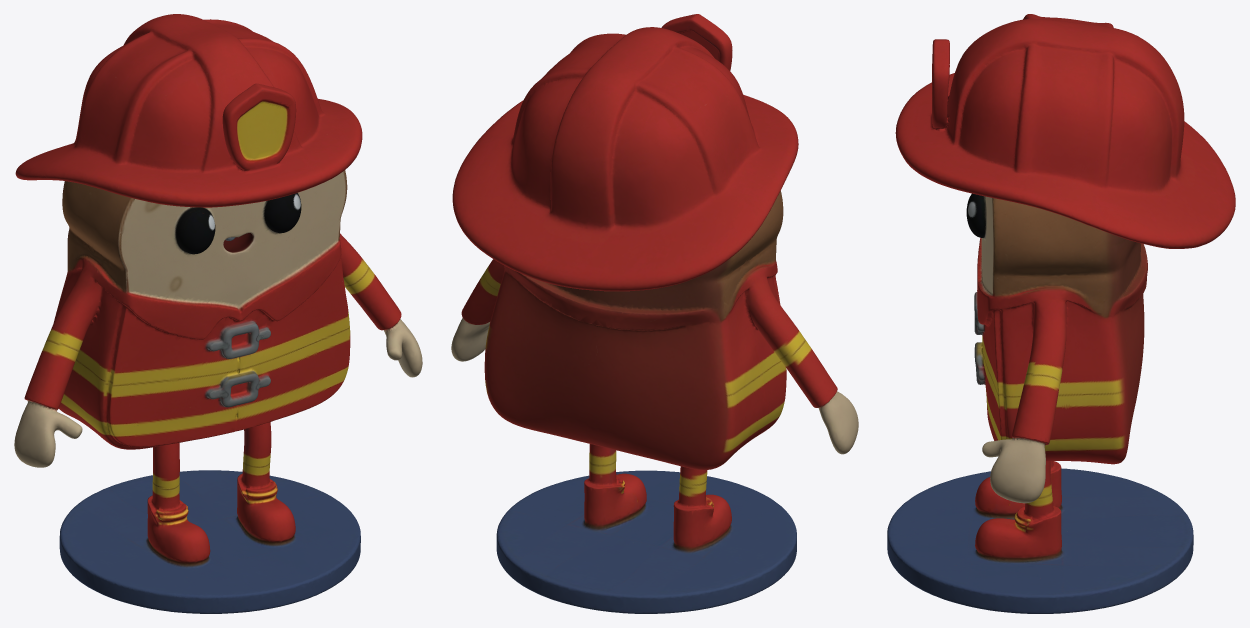
The model's file is brave-firefighter.glb.
3 views of the same model, side by side, from view 1: azimuth 30°, elevation 25°; view 2: azimuth 150°, elevation 25°; view 3: azimuth 270°, elevation 25° (orthographic). The views are drawn at different scales.
Bounding box in the file's own units: 1.53 × 1.9 × 1.14.
1 material, 1 textured.
